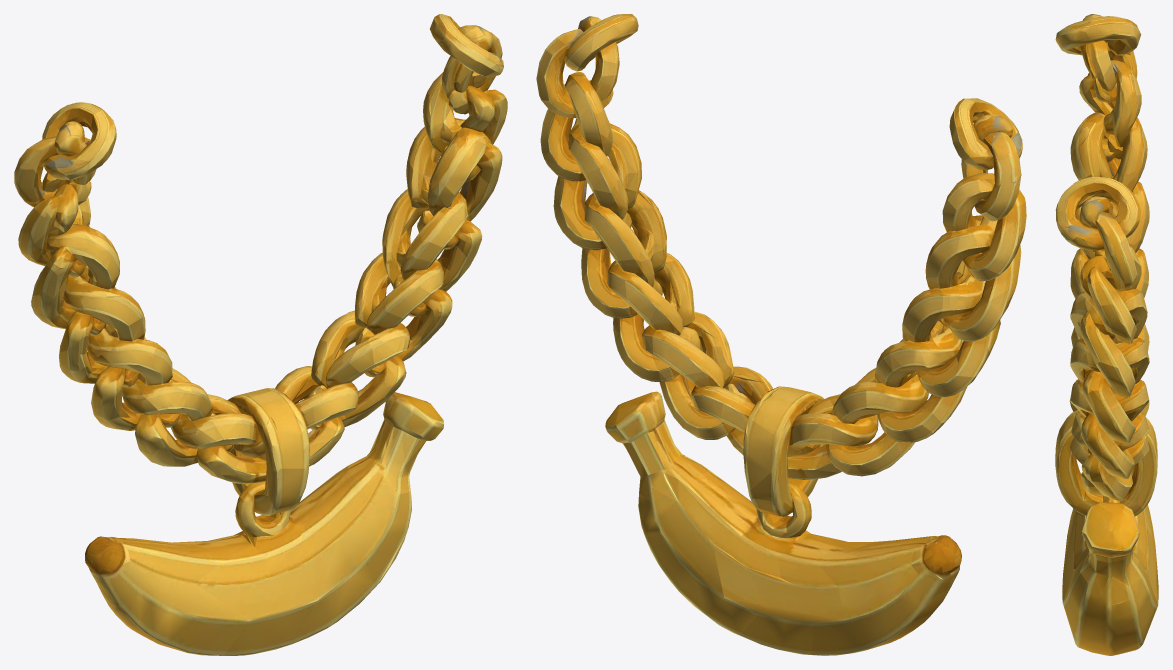
The model's file is banana_chain.glb.
3 views of the same model, side by side, from view 1: azimuth 30°, elevation 25°; view 2: azimuth 150°, elevation 25°; view 3: azimuth 270°, elevation 25° (orthographic). The views are drawn at different scales.
Parts seen in each view (by area): view 1: Mesh_0; view 2: Mesh_0; view 3: Mesh_0.
Boxes of the visible parts, x1,y1,x2,y2 form: Mesh_0: (14,14,507,655); Mesh_0: (536,14,1026,655); Mesh_0: (1055,14,1158,655).
Bounding box in the file's own units: 0.8696 × 1 × 0.1726.
Materials: 1 (1 with a texture image).
